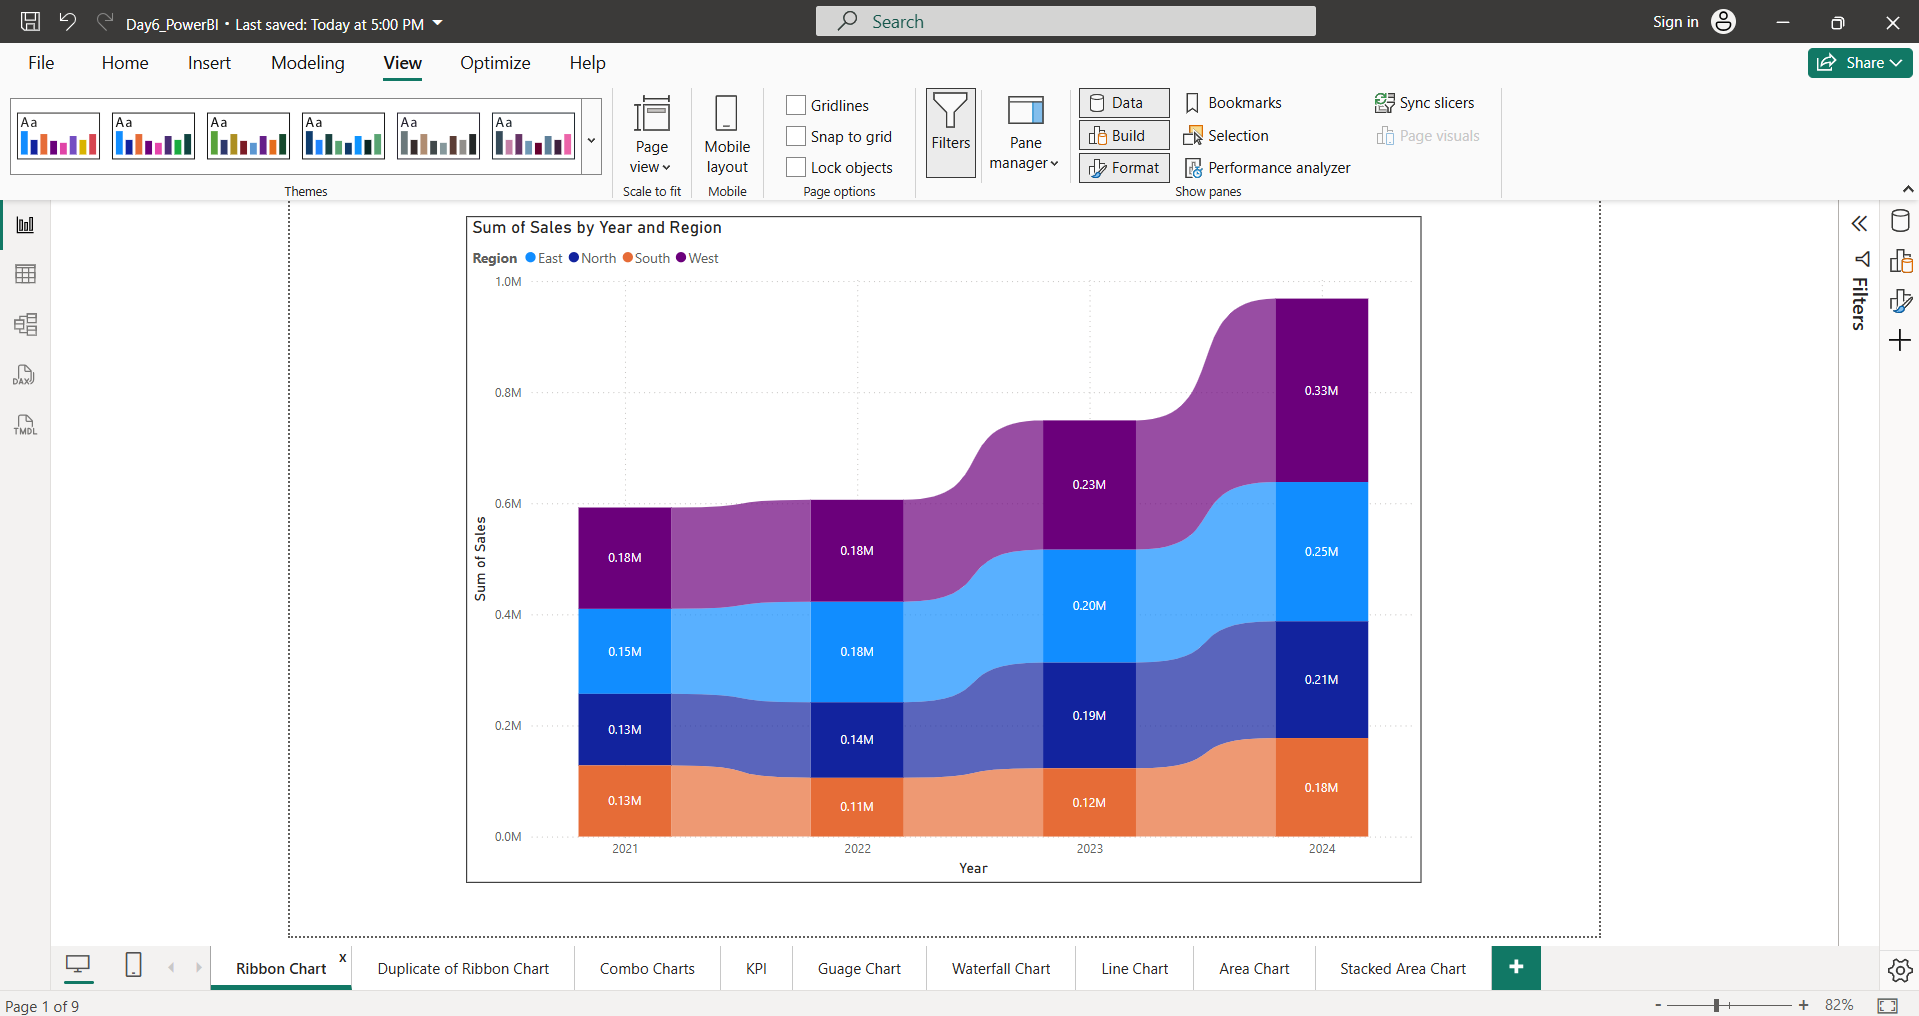

Layout of this report page (visuals, bound fields, positions):
{"tool":"powerbi","page":{"name":"Ribbon Chart","canvas":[1280,720],"ordinal":0},"visuals":[{"type":"ribbonChart","fields":{"Category":["India New Data.Order Date.Variation.Date Hierarchy.Year"],"Series":["India New Data.Region"],"Y":["Sum(India New Data.Sales)"]},"box":[172.4,15.9,934.2,651.8],"z":1000}]}

Visuals, with their boxes on the page's 1280x720 design canvas (x1, y1, x2, y2). These are canvas units, not pixel positions in the 1919x1016 screenshot, which may show the page scaled, cropped or inside an application window:
ribbonChart - India New Data.Order Date.Variation.Date Hierarchy.Year x India New Data.Region: 172 16 1107 668
